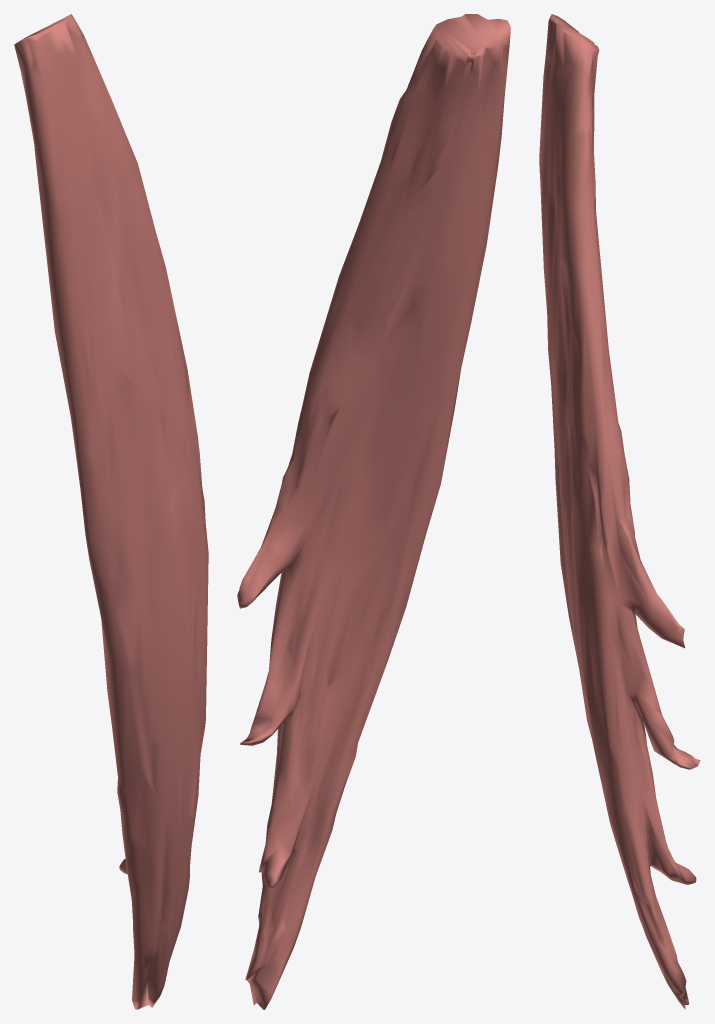
The picture shows the model from 3 angles, left to right: view 1: azimuth 30°, elevation 25°; view 2: azimuth 150°, elevation 25°; view 3: azimuth 270°, elevation 25°; orthographic projection. The views are drawn at different scales.
Visible parts, largest first — view 1: ZA_fdb102b94d64d117; view 2: ZA_fdb102b94d64d117; view 3: ZA_fdb102b94d64d117.
Boxes of the visible parts, bbox=[...] form: ZA_fdb102b94d64d117: bbox=[14, 14, 208, 1009]; ZA_fdb102b94d64d117: bbox=[237, 14, 510, 1009]; ZA_fdb102b94d64d117: bbox=[539, 14, 700, 1009].
Size of the model in its own units: 0.0243 by 0.1101 by 0.0176.
